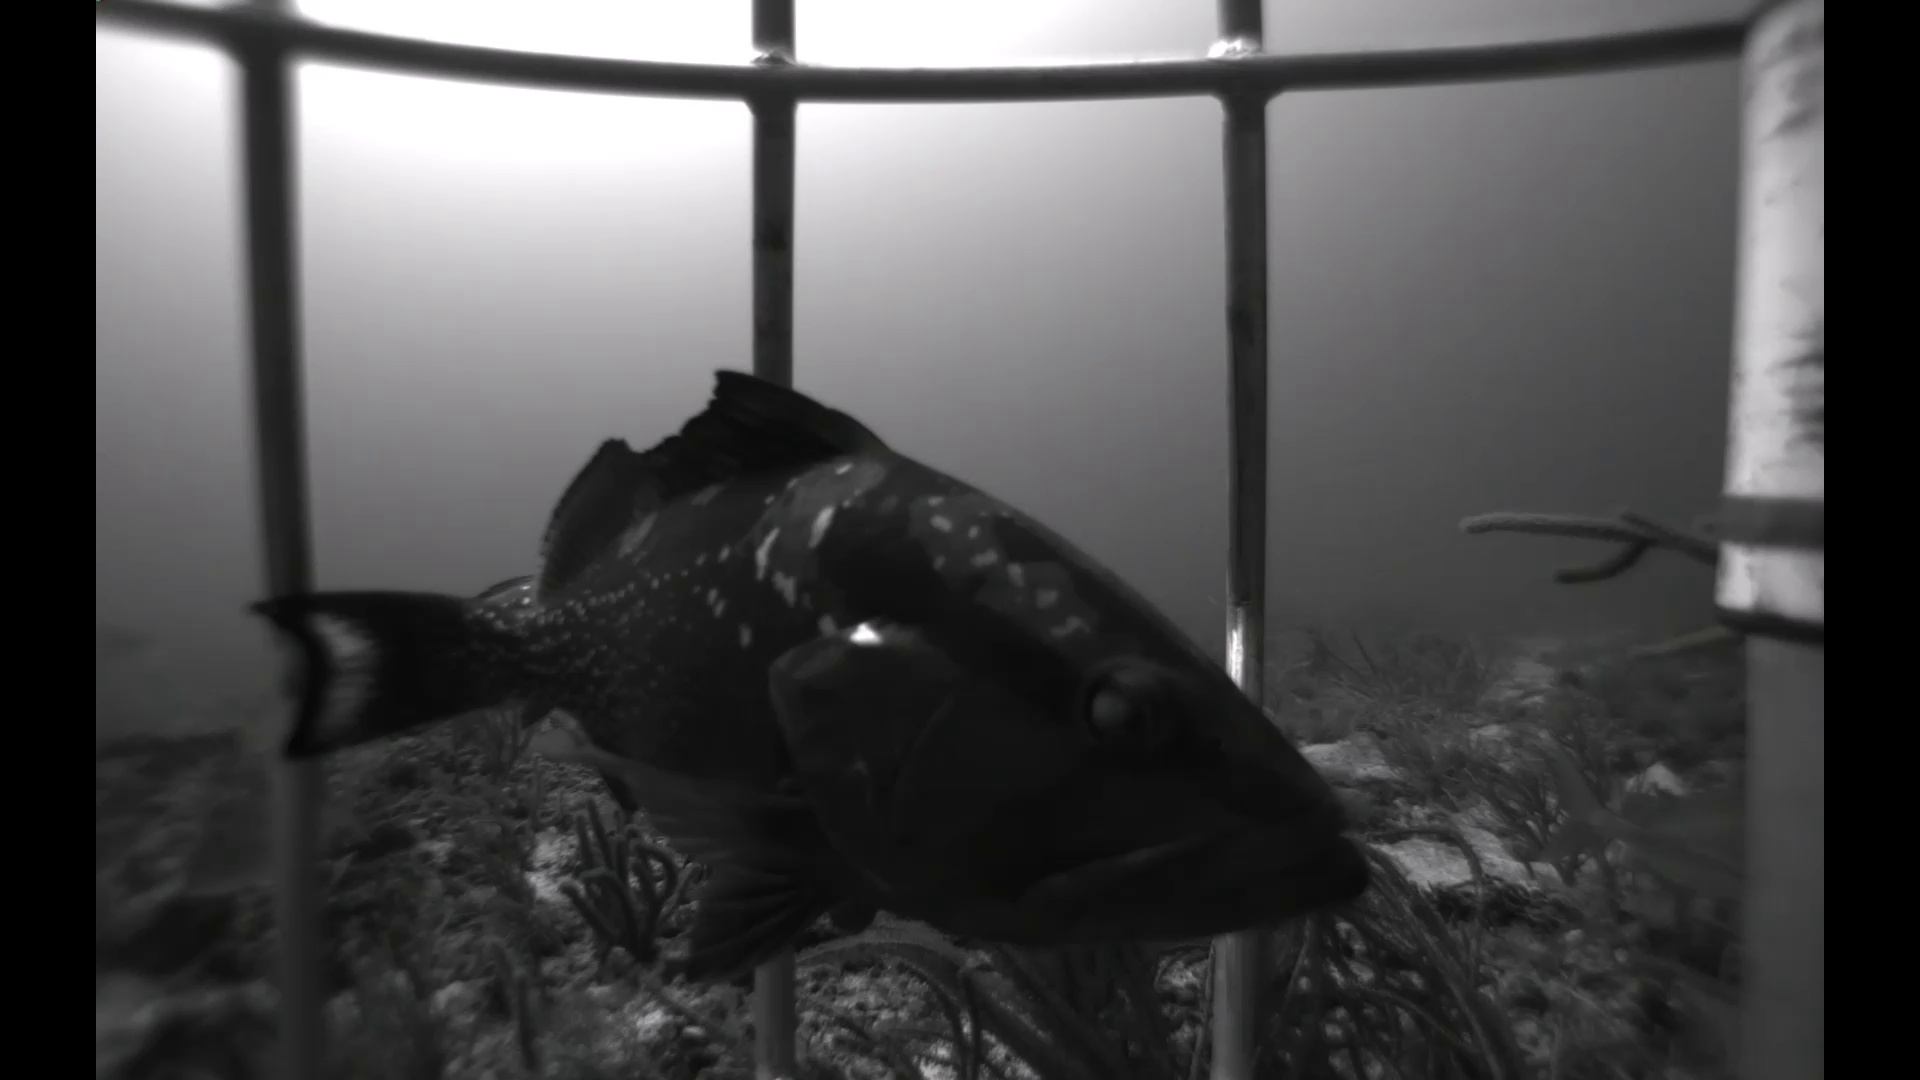CALAMUSNODOSUS-170210608: (1520, 728, 1755, 924), (164, 745, 392, 916)
EPINEPHELUSMORIO-170021211: (179, 324, 1356, 1007), (455, 567, 568, 732)
